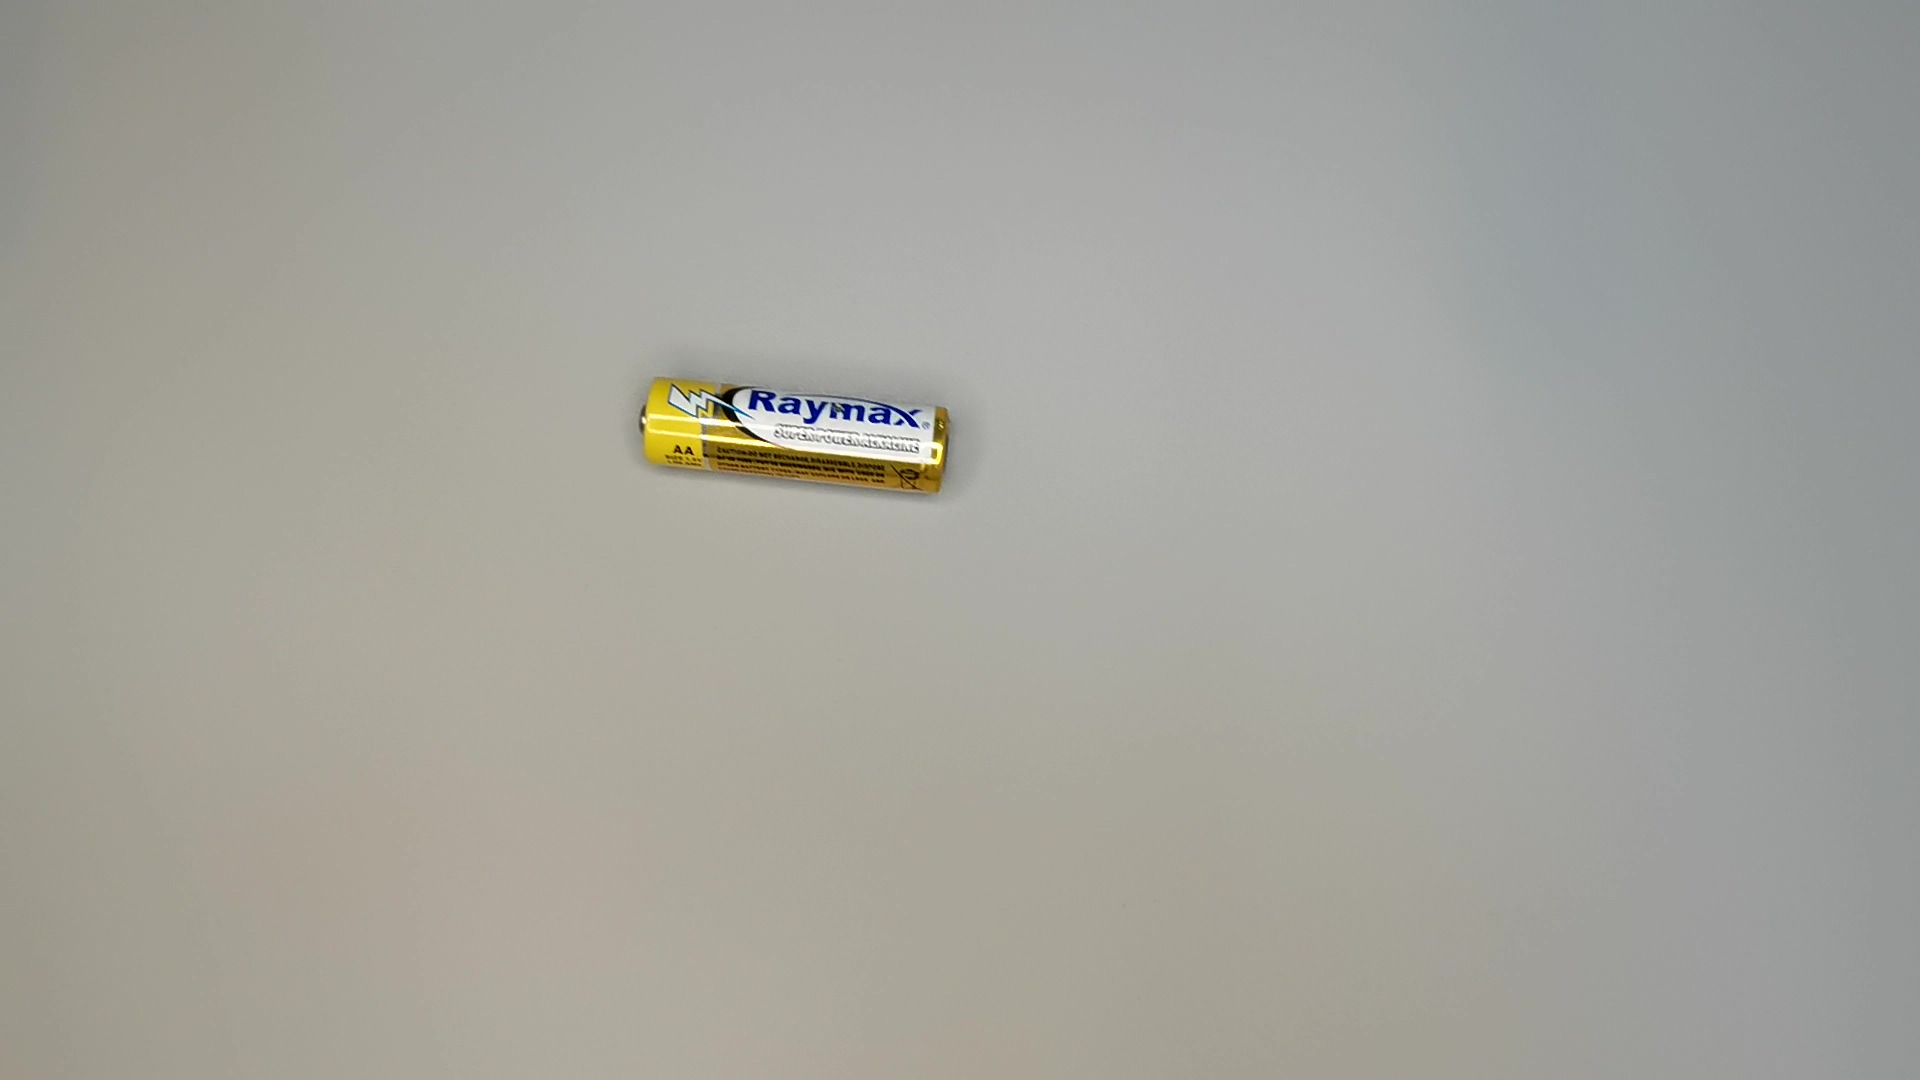battery: (632, 356, 957, 502)
